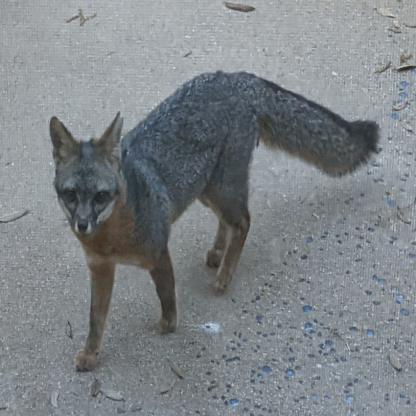zorro: (41, 66, 388, 380)
